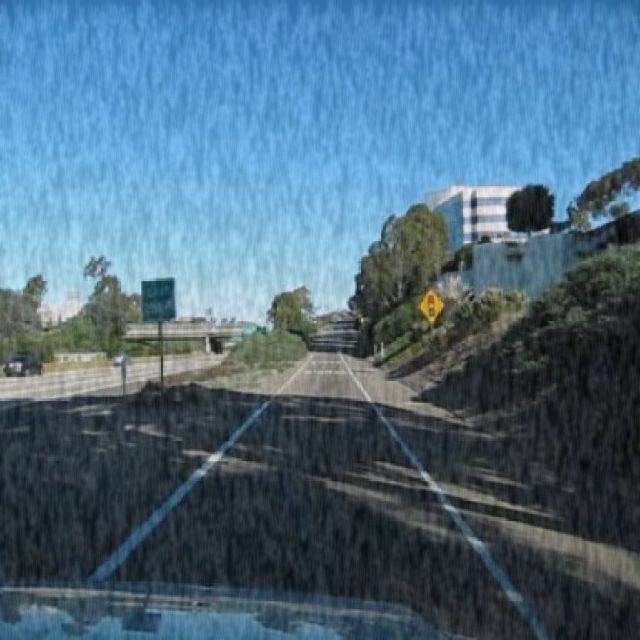signalAhead: (417, 285, 445, 322)
